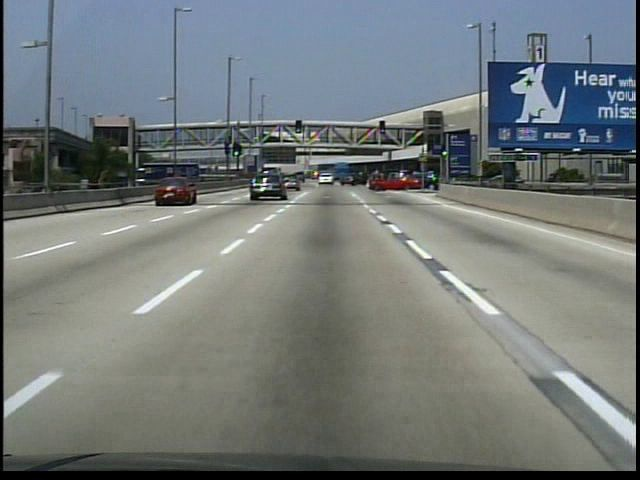person: (226, 134, 232, 146)
